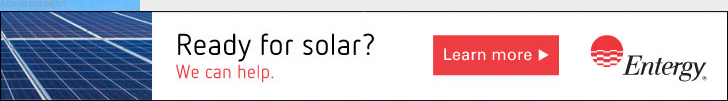fake_button: (424, 27, 566, 84)
